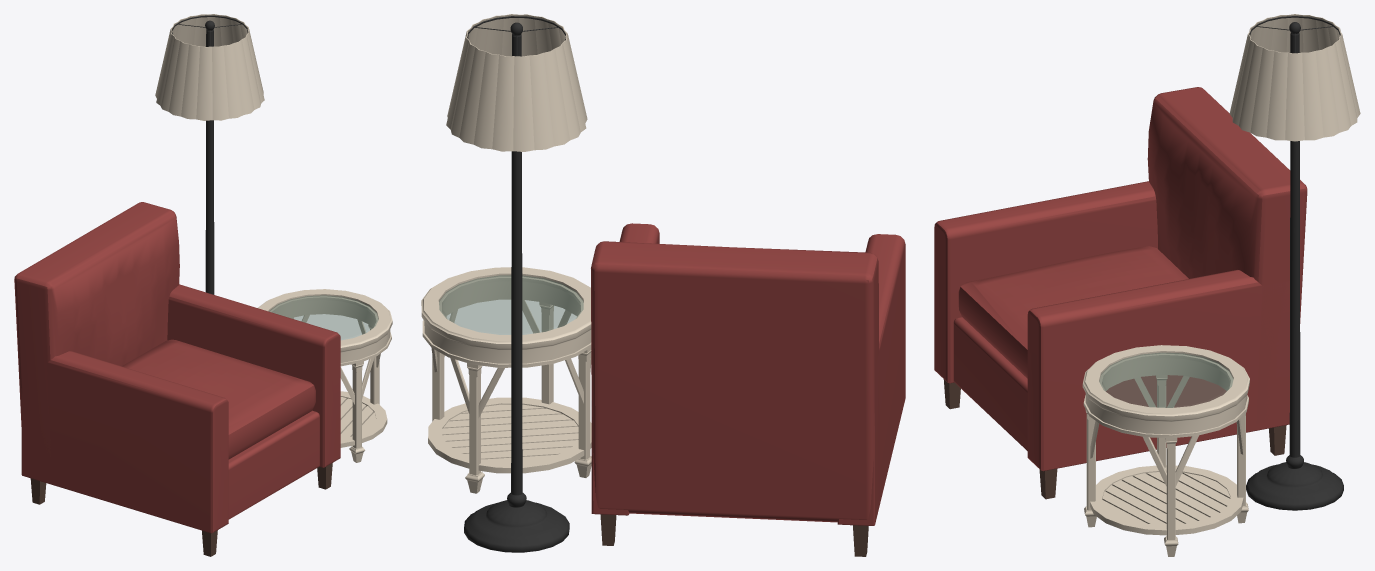
File: franklin_furniture.glb
3 views of the same model, side by side, from view 1: azimuth 30°, elevation 25°; view 2: azimuth 150°, elevation 25°; view 3: azimuth 270°, elevation 25° (orthographic). The views are drawn at different scales.
Visible parts, largest first — view 1: ArmRest1, Back, ArmRest2, Seat_Cushion, Shade, Bottom, Tabletop, Glass1, Pole, Leg_Front1, Bottom_Ring; view 2: Back, Shade, Tabletop, Pole, ArmRest1, Glass1, Bottom_Ring, Leg_Front3, Leg_Front, ArmRest2, Leg_Front1, Bottom_Board1 (+7 smaller); view 3: ArmRest2, Back, ArmRest1, Shade, Seat_Cushion, Tabletop, Pole, Glass1, Bottom, Bottom_Ring, Leg_Front2, Leg_Front1 (+9 smaller).
Boxes of the visible parts, x1,y1,x2,y2 form: ArmRest1: (21, 351, 228, 533); Back: (14, 202, 179, 458); ArmRest2: (167, 284, 340, 467); Seat_Cushion: (122, 339, 315, 459); Shade: (155, 14, 264, 120); Bottom: (228, 410, 319, 519); Tabletop: (258, 289, 392, 366); Glass1: (269, 295, 378, 340); Pole: (205, 20, 214, 294); Leg_Front1: (349, 361, 365, 462); Bottom_Ring: (340, 391, 387, 447); Back: (591, 241, 879, 522); Shade: (446, 14, 587, 151); Tabletop: (421, 267, 591, 367); Pole: (464, 22, 569, 552); ArmRest1: (837, 234, 905, 525); Glass1: (439, 275, 583, 334); Bottom_Ring: (428, 397, 591, 473); Leg_Front3: (465, 363, 484, 493); Leg_Front: (574, 348, 591, 477); ArmRest2: (591, 223, 659, 515); Leg_Front1: (539, 302, 553, 404); Bottom_Board1: (442, 426, 578, 441); ArmRest2: (1027, 270, 1289, 471); Back: (1147, 87, 1307, 423); ArmRest1: (934, 181, 1157, 383); Shade: (1229, 14, 1360, 141); Seat_Cushion: (958, 246, 1188, 378); Tabletop: (1082, 345, 1249, 438); Pole: (1246, 22, 1343, 510); Glass1: (1099, 352, 1233, 407); Bottom: (953, 317, 1027, 450); Bottom_Ring: (1090, 465, 1243, 535); Leg_Front2: (1164, 438, 1178, 556); Leg_Front1: (1084, 409, 1096, 527).
Bounding box in the file's own units: 5.52 × 5.85 × 4.83.
